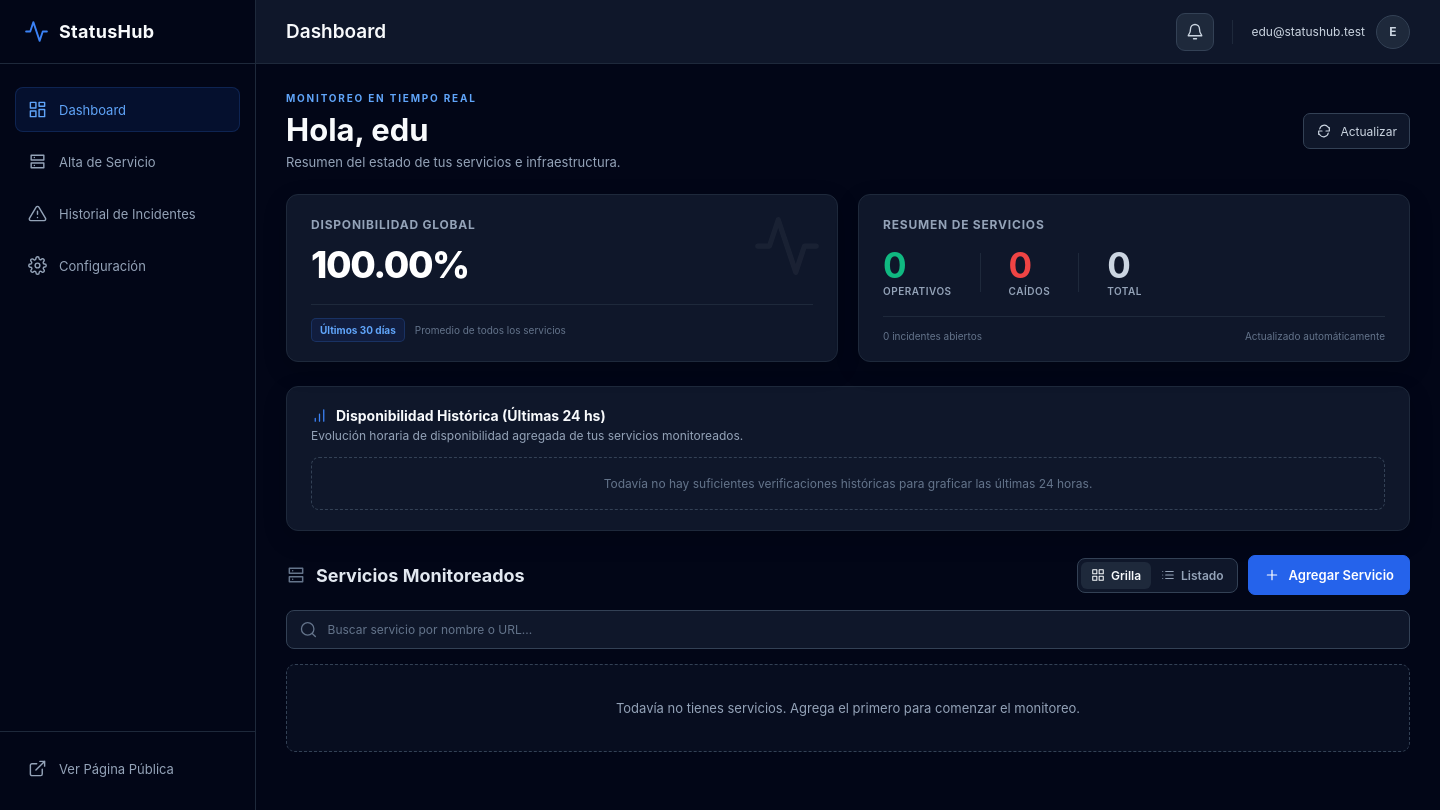
Historial de Incidentes — Paginación y modal con fecha/hora de detectado y resuelto › pagina el listado de incidentes y solicita la página siguiente a la API
Click the button "Historial de Incidentes".
click(128, 214)  # box [15, 191, 240, 236]
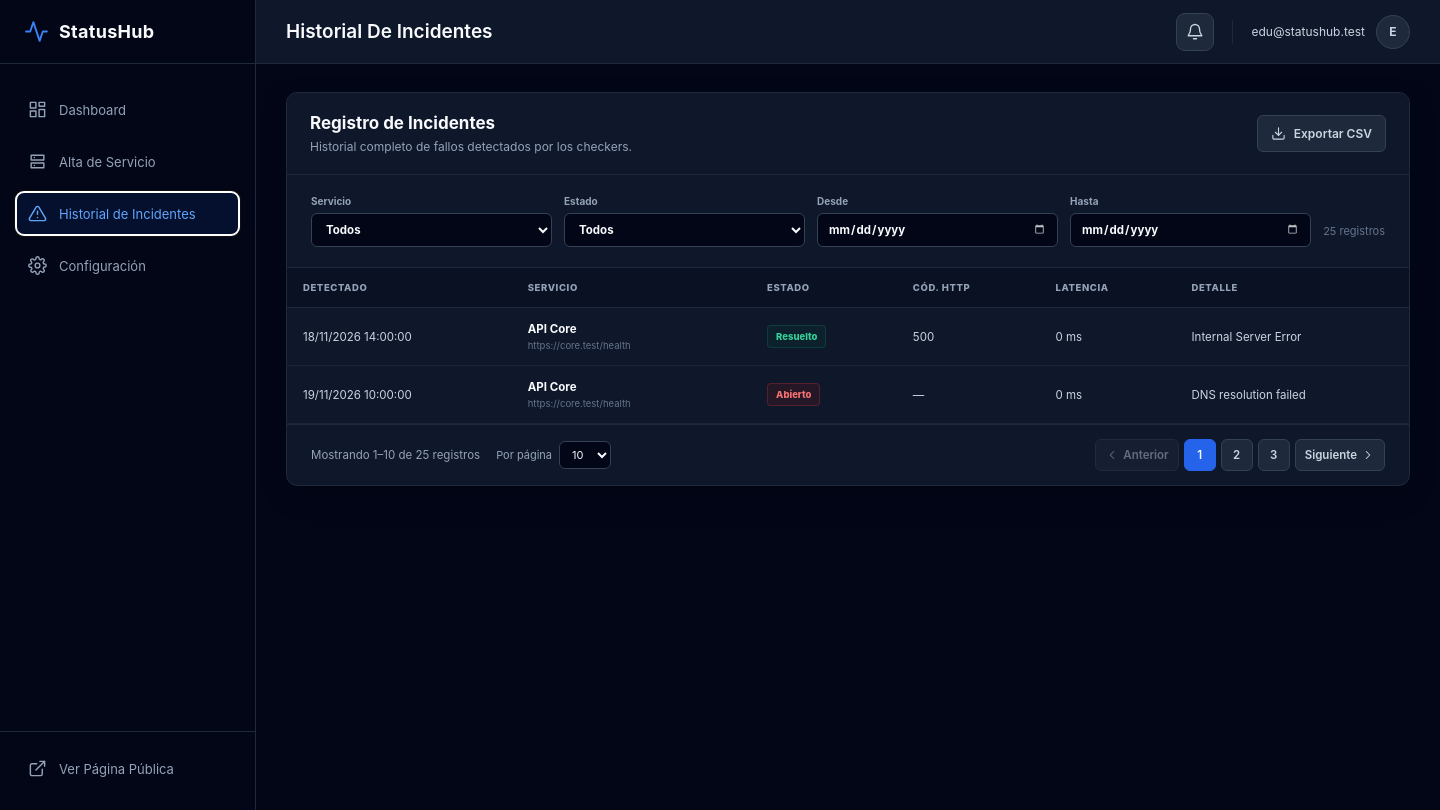
Expected: the text "Mostrando 1–10 de 25 registros" is shown, [311, 448, 480, 462]
Expected: the text "Internal Server Error" is shown, [1176, 308, 1409, 366]
Click the button with aria-label "Página siguiente".
click(1340, 455)  # box [1295, 439, 1385, 471]
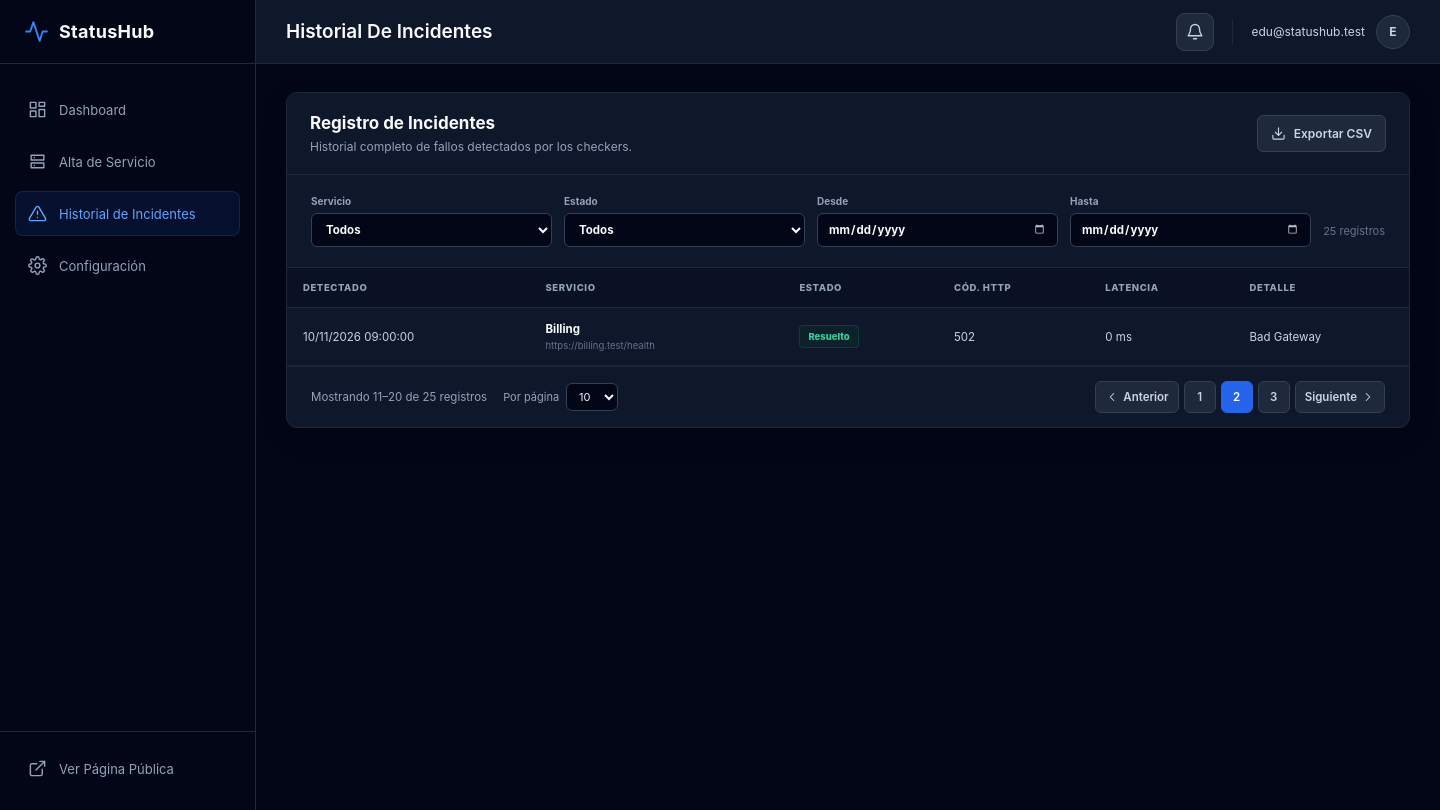
Expected: the text "Bad Gateway" is shown, [1234, 308, 1409, 366]
Expected: the text "Mostrando 11–20 de 25 registros" is shown, [311, 390, 487, 404]
